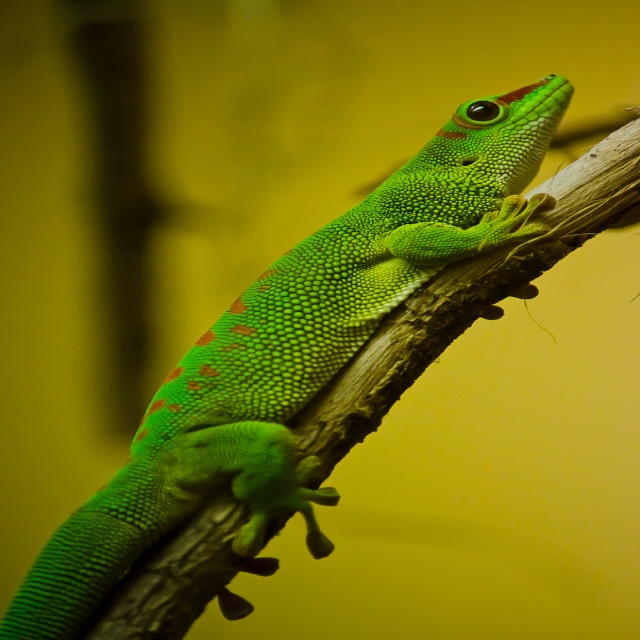Lizard: (0, 74, 574, 640)
